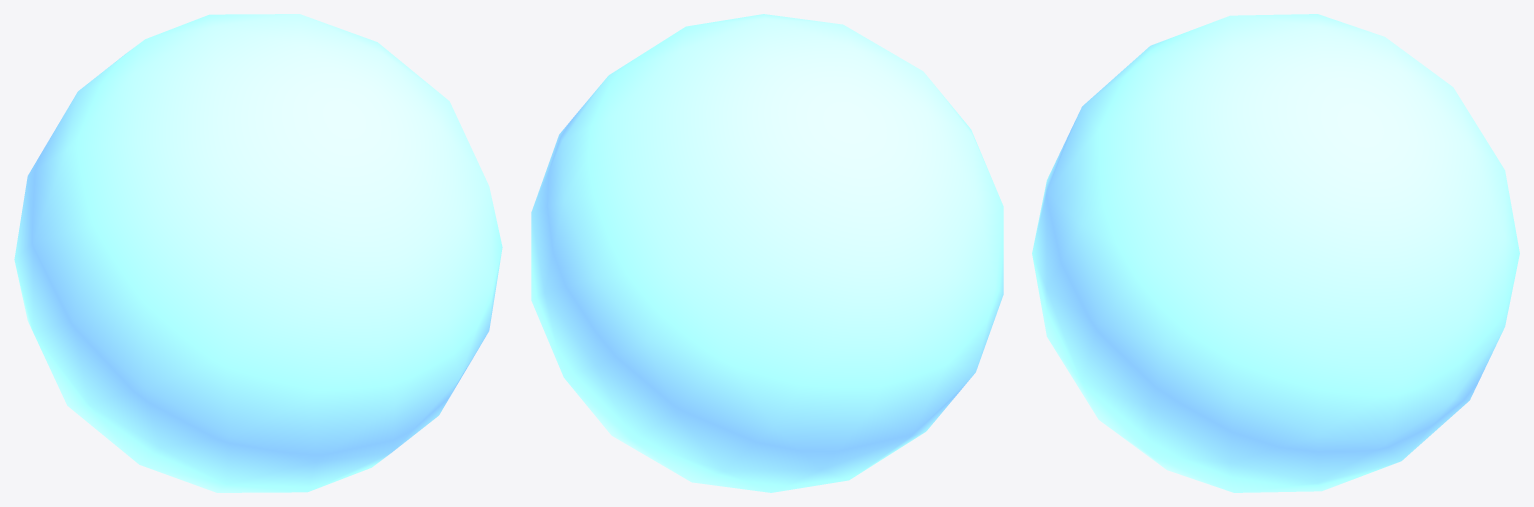
File: cyanball.glb
3 renders of one model, left to right at view 1: azimuth 30°, elevation 25°; view 2: azimuth 150°, elevation 25°; view 3: azimuth 270°, elevation 25°, orthographic.
Parts seen in each view (by area): view 1: lightningOrb; view 2: lightningOrb; view 3: lightningOrb.
Part boxes in pixels (x1,y1,x2,y2): lightningOrb: (14,14,502,492); lightningOrb: (531,14,1003,492); lightningOrb: (1032,14,1519,492).
Bounding box in the file's own units: 0.4605 × 0.4591 × 0.4688.
